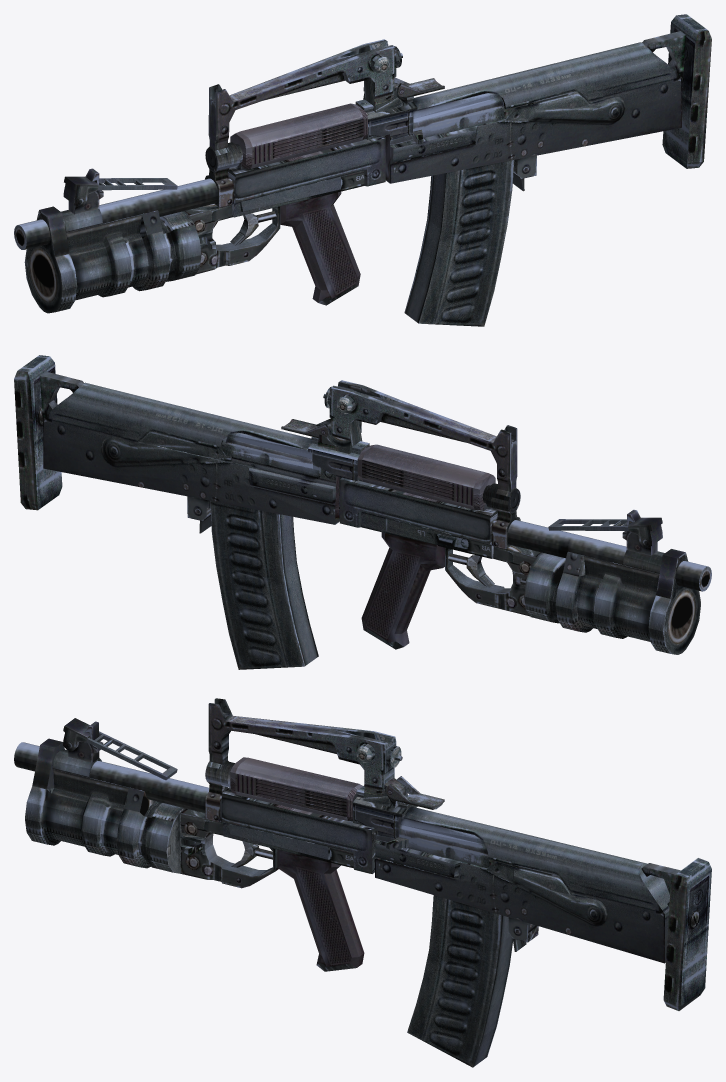
File: w_groza.obj
3 renders of one model, top to bottom at view 1: azimuth 30°, elevation 25°; view 2: azimuth 150°, elevation 25°; view 3: azimuth 330°, elevation 25°, orthographic.
Parts seen in each view (by area): view 1: W_Groza; view 2: W_Groza; view 3: W_Groza.
Part boxes in pixels (x1=…): W_Groza: x1=14, y1=14, x2=711, y2=326; W_Groza: x1=14, y1=355, x2=711, y2=669; W_Groza: x1=14, y1=698, x2=711, y2=1067.
Size of the model in its own units: 7 by 2.97 by 0.6791.
